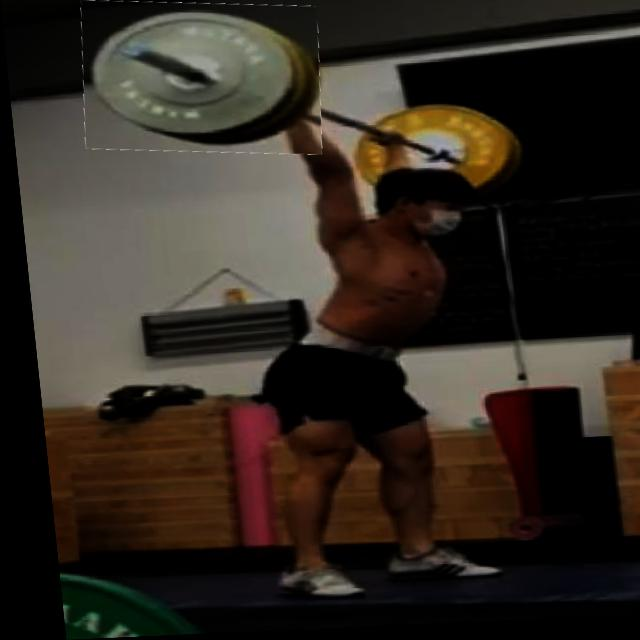barbell: (74, 1, 327, 162)
